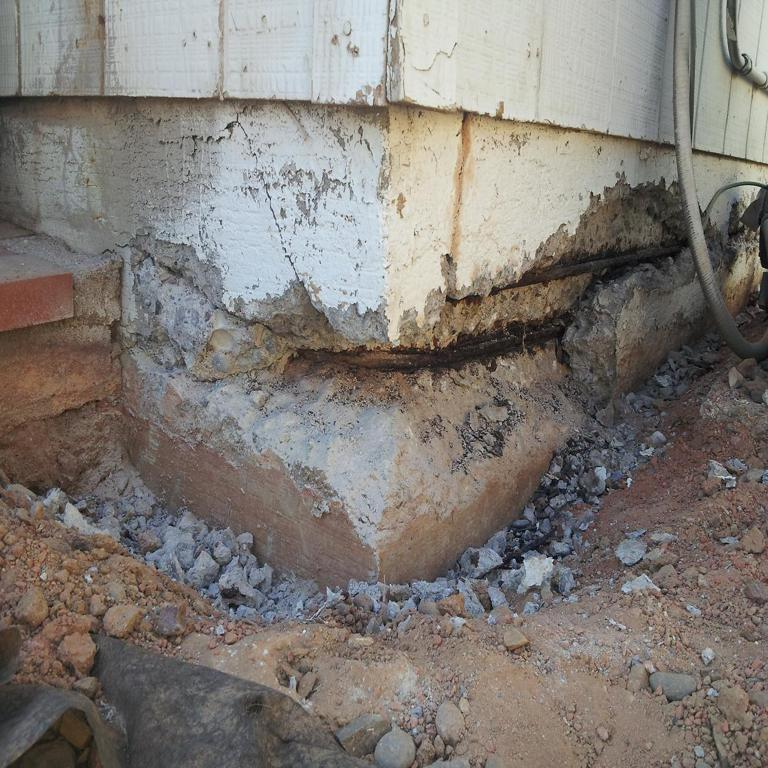exposed_rebar: (300, 318, 567, 370), (504, 246, 682, 289)
spalling: (120, 178, 686, 490)
